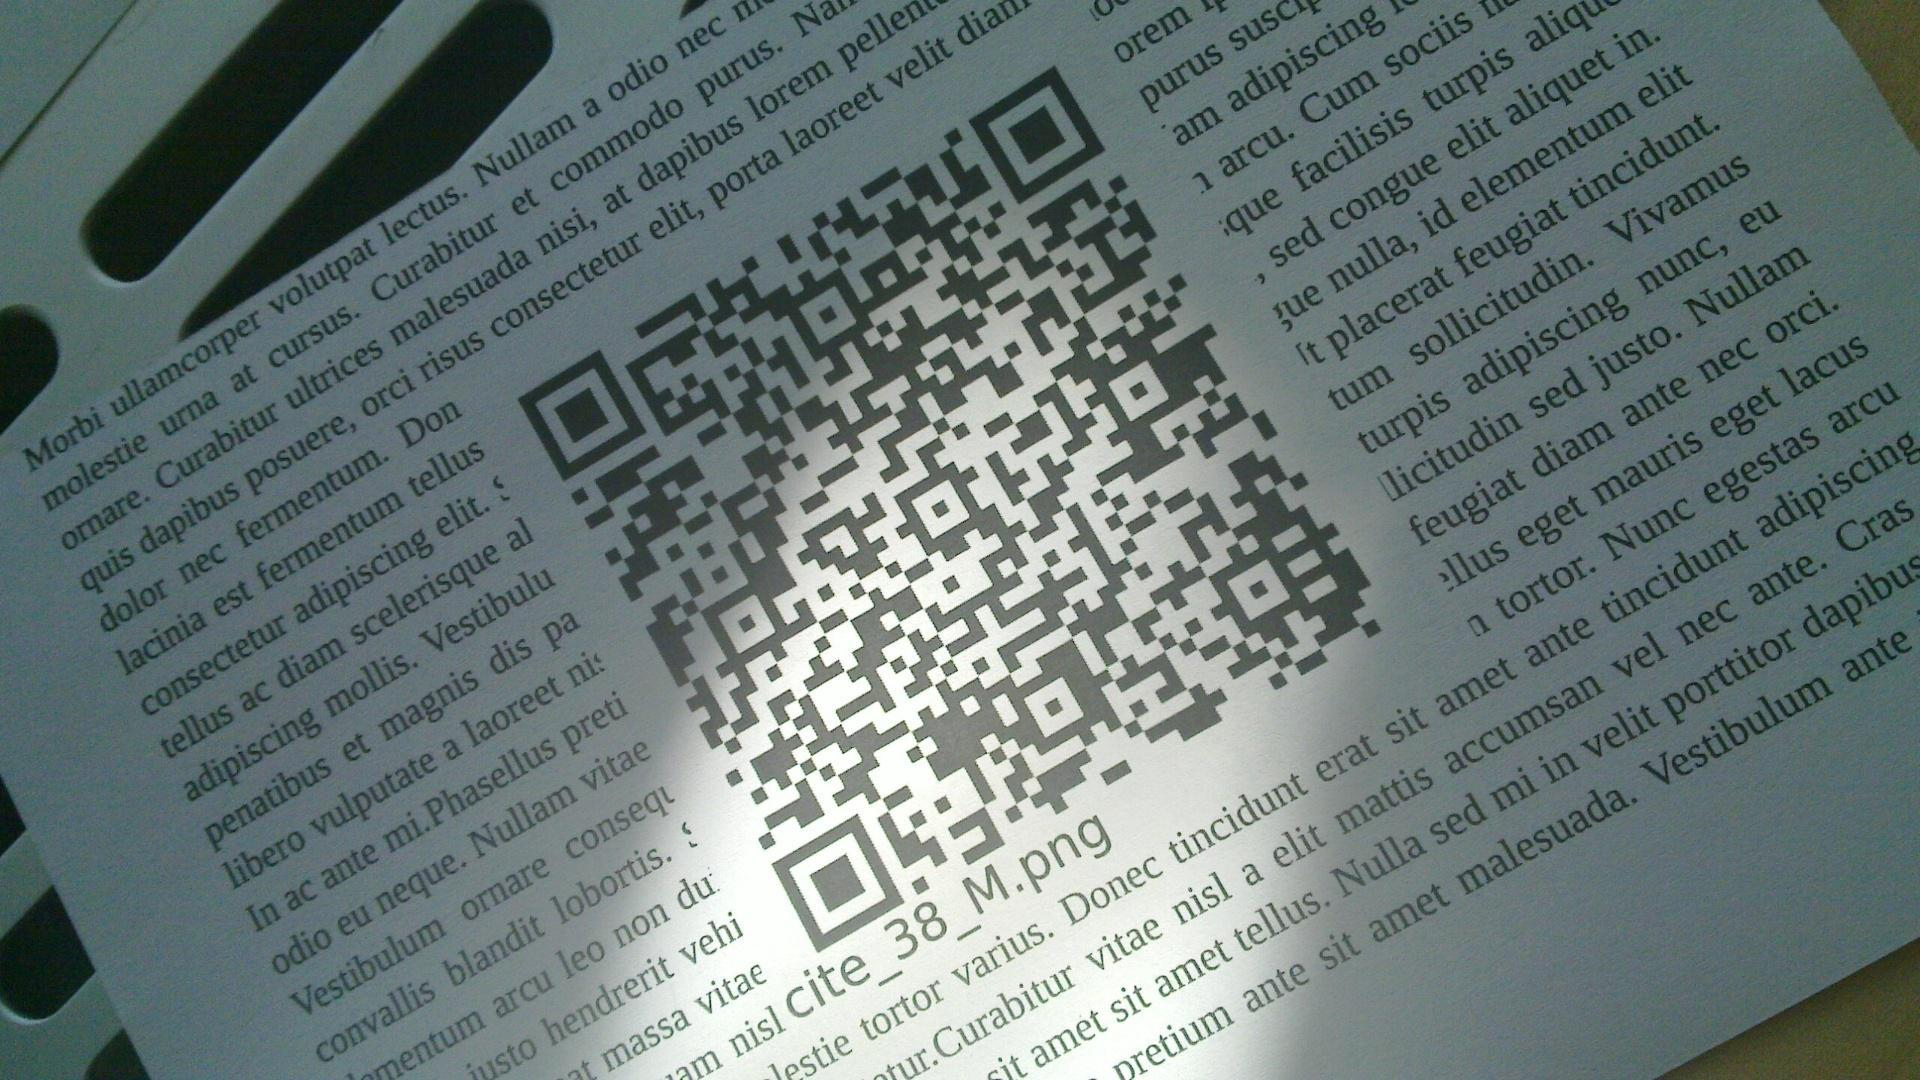Finder pattern: (964, 67, 1106, 208), (764, 815, 901, 945), (514, 353, 654, 479)
